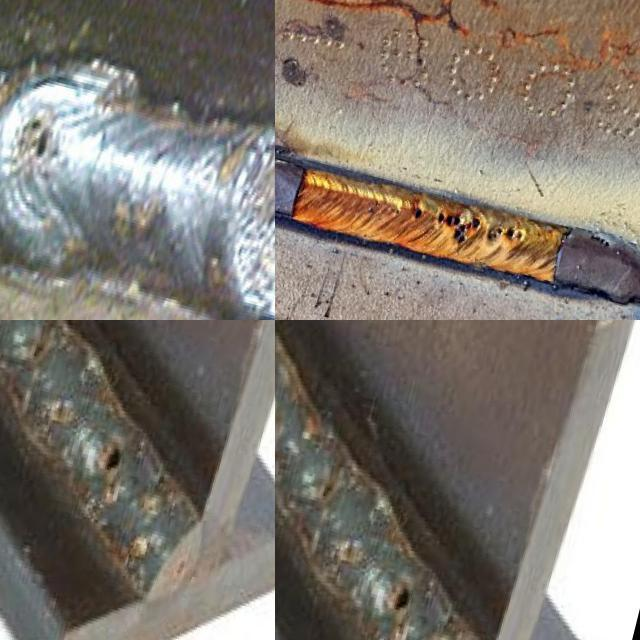defect: (429, 209, 484, 252), (29, 113, 54, 173), (99, 441, 125, 478), (388, 581, 414, 618), (484, 221, 524, 245), (587, 228, 617, 250), (409, 204, 429, 222)
